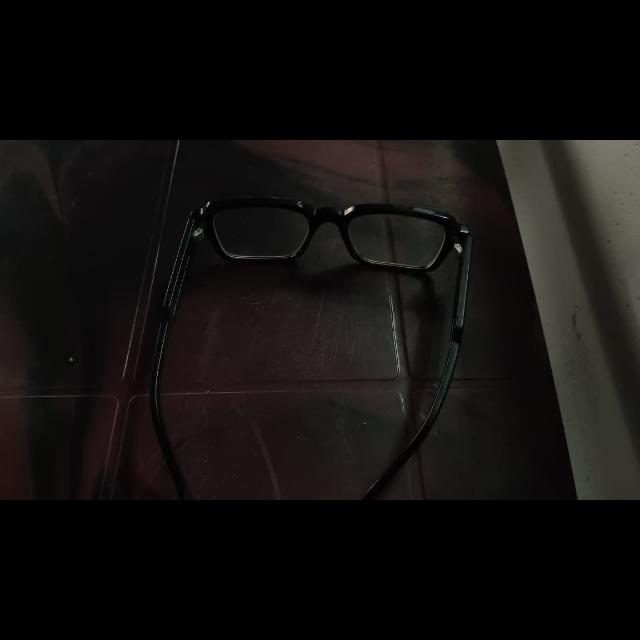glasses: (153, 198, 467, 498)
